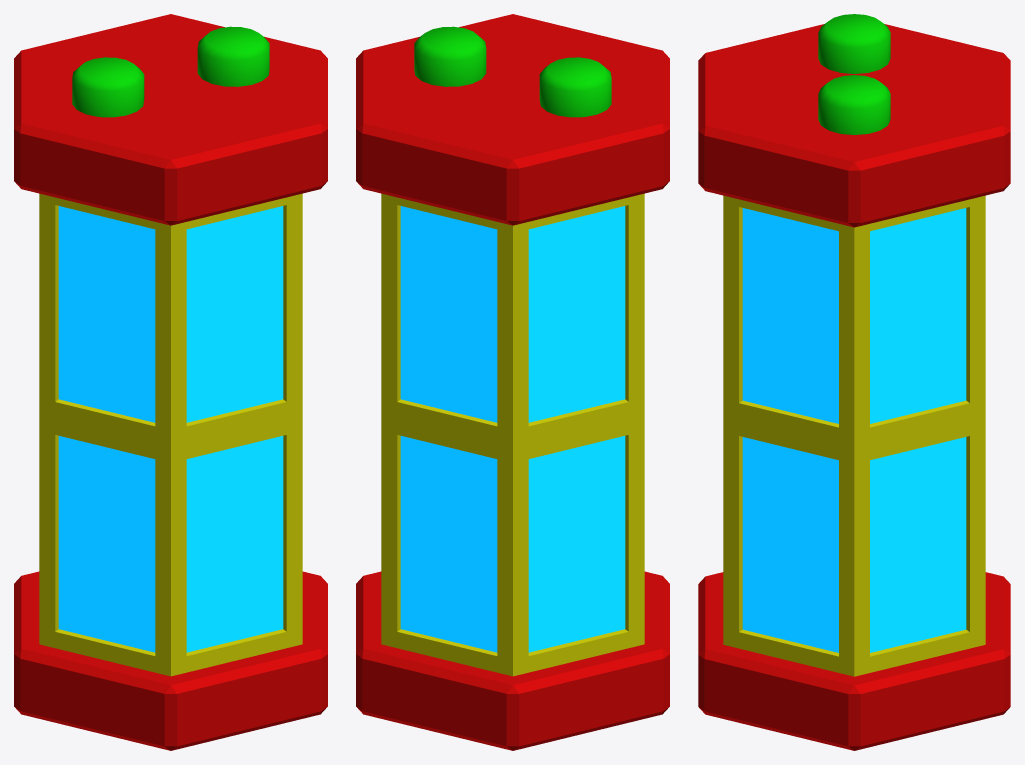
File: energy_cell.fbx
3 renders of one model, left to right at view 1: azimuth 30°, elevation 25°; view 2: azimuth 150°, elevation 25°; view 3: azimuth 270°, elevation 25°, orthographic.
Visible parts, largest first — view 1: attribwrangle4; view 2: attribwrangle4; view 3: attribwrangle4.
Boxes of the visible parts, left/top/right/bottom form: attribwrangle4: left=14, top=14, right=327, bottom=750; attribwrangle4: left=356, top=14, right=669, bottom=750; attribwrangle4: left=698, top=14, right=1010, bottom=750.
Bounding box in the file's own units: 9.8 × 19 × 8.66.
